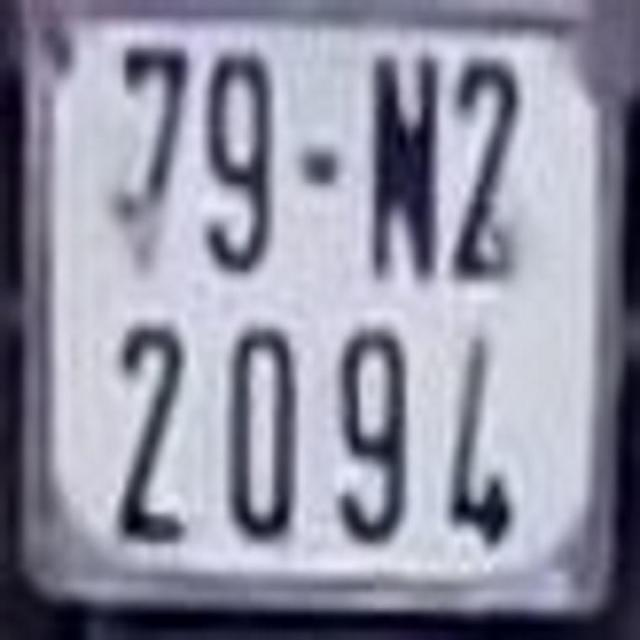0: (224, 316, 295, 540)
2: (116, 314, 191, 549), (451, 49, 517, 289)
4: (443, 328, 520, 560)
7: (117, 31, 188, 276)
9: (202, 38, 274, 280), (336, 315, 407, 551)
M: (368, 44, 443, 290)
